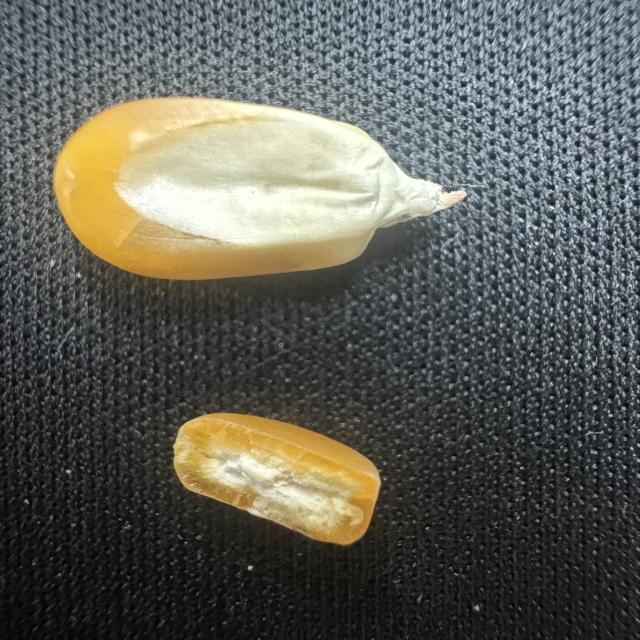Bad-Seed: (157, 402, 389, 560)
Good-Seed: (47, 91, 472, 291)
